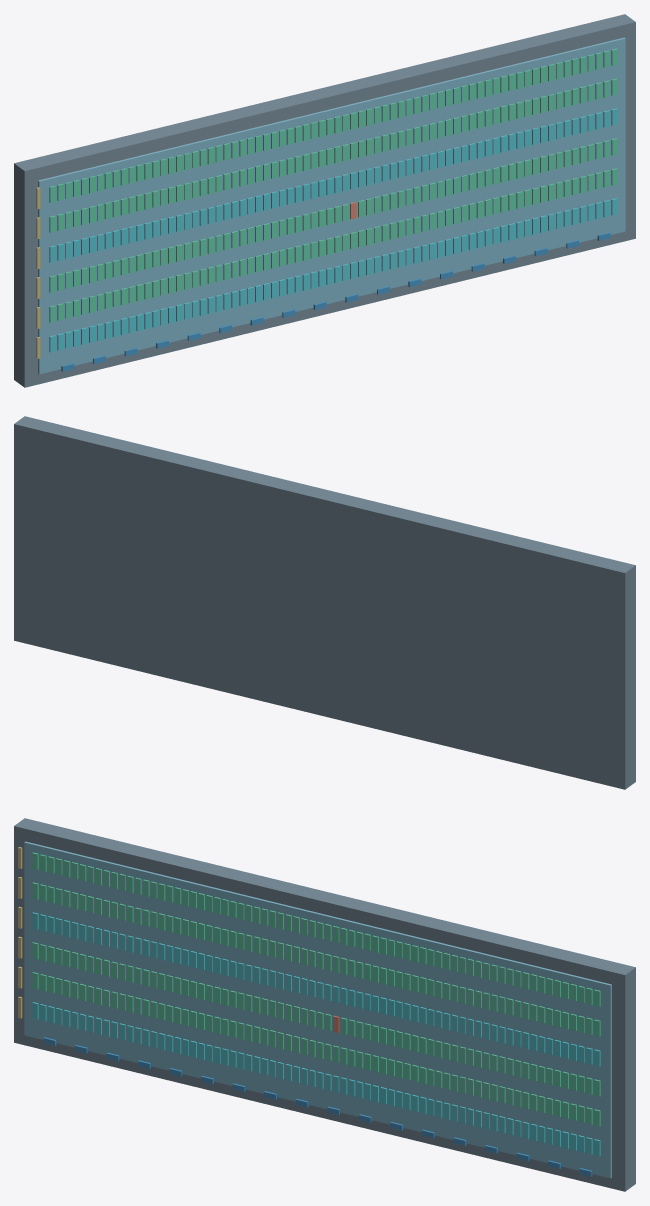
Rendered from 13_L81_GiantMemoryBitStateHologram.glb.
3 renders of one model, top to bottom at view 1: azimuth 30°, elevation 25°; view 2: azimuth 150°, elevation 25°; view 3: azimuth 330°, elevation 25°, orthographic.
Visible parts, largest first — view 1: GiantMemoryBitStateHologram_Node_0001, GiantMemoryBitStateHologram_Node_0000; view 2: GiantMemoryBitStateHologram_Node_0000; view 3: GiantMemoryBitStateHologram_Node_0001, GiantMemoryBitStateHologram_Node_0000.
Boxes of the visible parts, x1=… form: GiantMemoryBitStateHologram_Node_0001: x1=38, y1=37, x2=625, y2=374; GiantMemoryBitStateHologram_Node_0000: x1=14, y1=14, x2=635, y2=387; GiantMemoryBitStateHologram_Node_0000: x1=14, y1=416, x2=635, y2=789; GiantMemoryBitStateHologram_Node_0001: x1=24, y1=841, x2=611, y2=1178; GiantMemoryBitStateHologram_Node_0000: x1=14, y1=818, x2=635, y2=1191.
Bounding box in the file's own units: 6.2 × 2.1 × 0.265.
